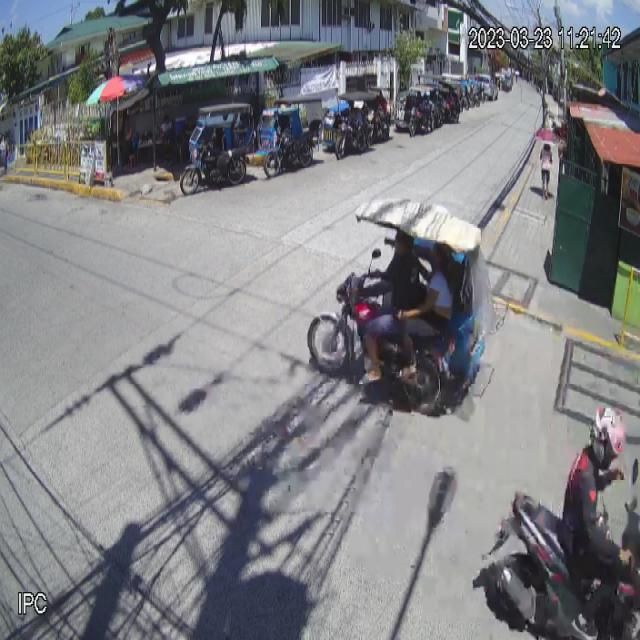Motorcycle: (488, 456, 640, 640)
Tricycle: (307, 198, 496, 409)
